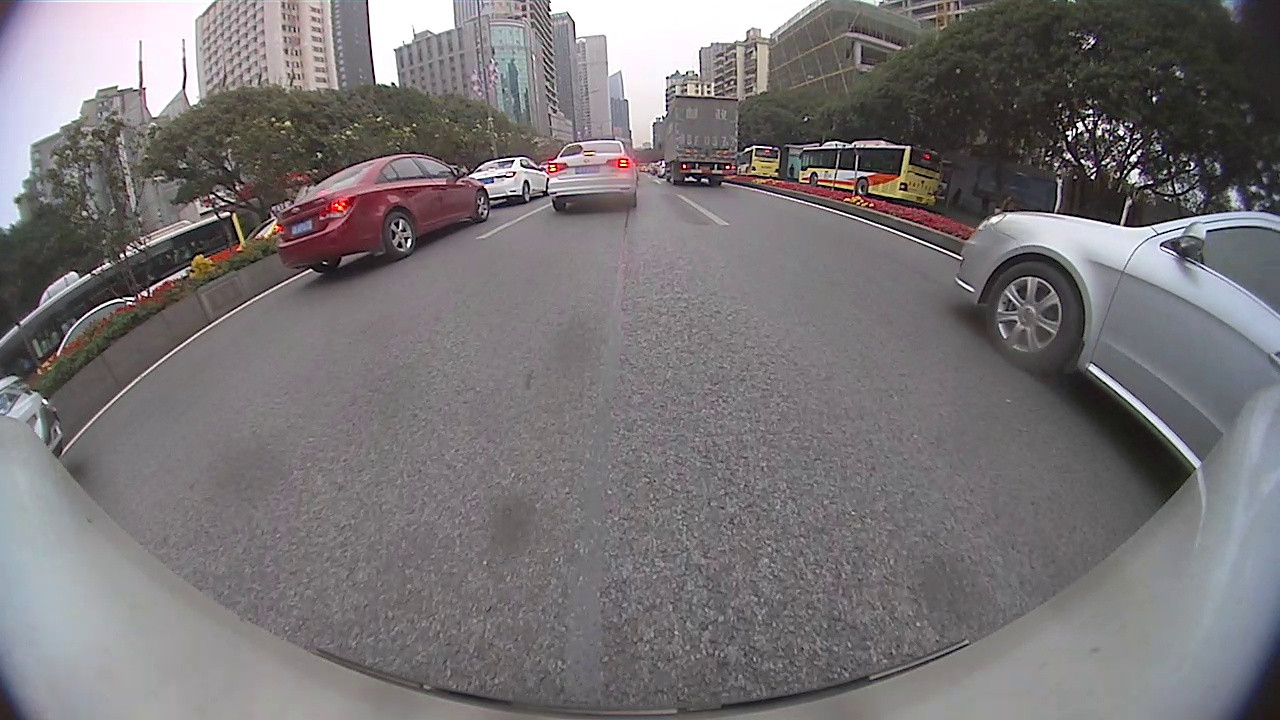bus: (1, 213, 247, 387), (798, 139, 945, 208), (736, 142, 781, 177)
car: (955, 209, 1277, 471), (274, 153, 491, 276), (548, 139, 639, 215), (0, 376, 70, 466), (56, 296, 142, 358), (468, 154, 550, 204)
front: (983, 260, 1082, 373), (473, 189, 492, 223), (808, 172, 818, 187)
rear: (383, 211, 415, 260), (520, 180, 533, 203), (855, 178, 870, 197)
truck: (662, 92, 744, 188)
